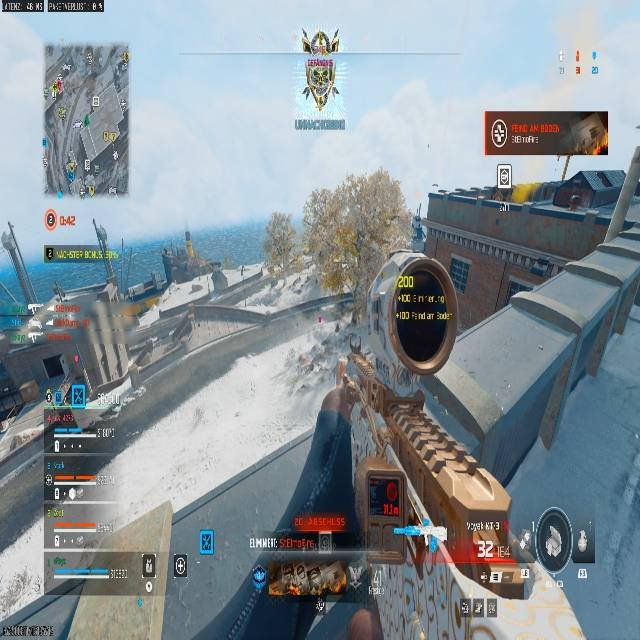head: (393, 257, 456, 360)
player: (411, 214, 426, 243)
